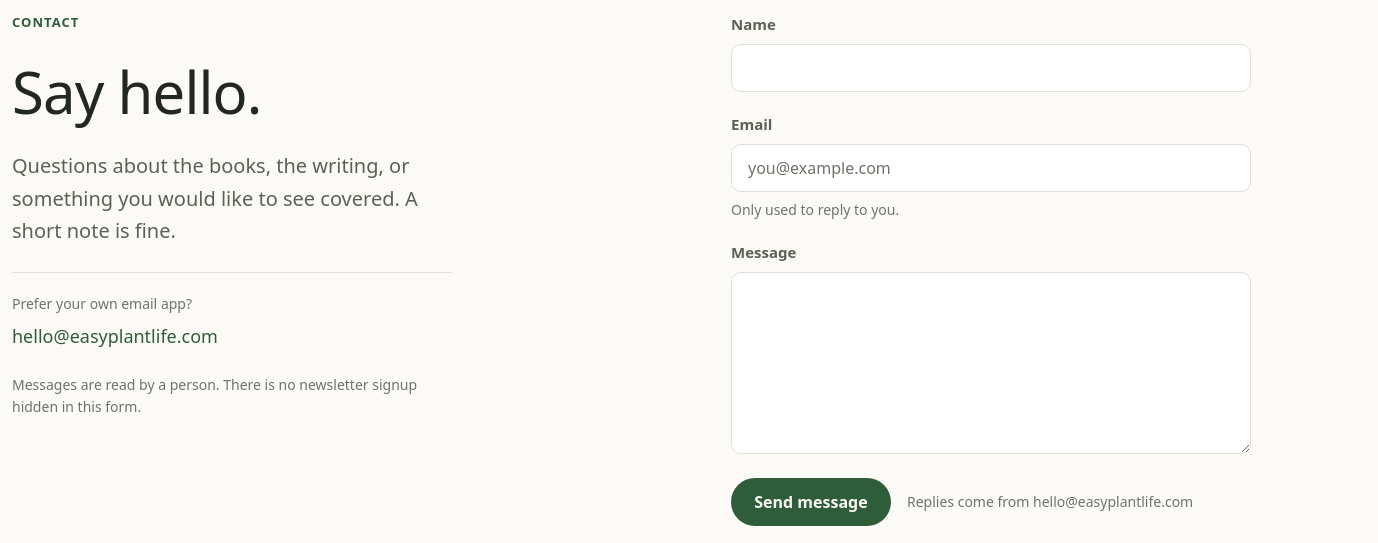
Test: Contact API Integration › shows success message when API succeeds
Step 1. Type "John Doe" into the field labelled "Name" → (991, 68), box [731,44,1251,92]
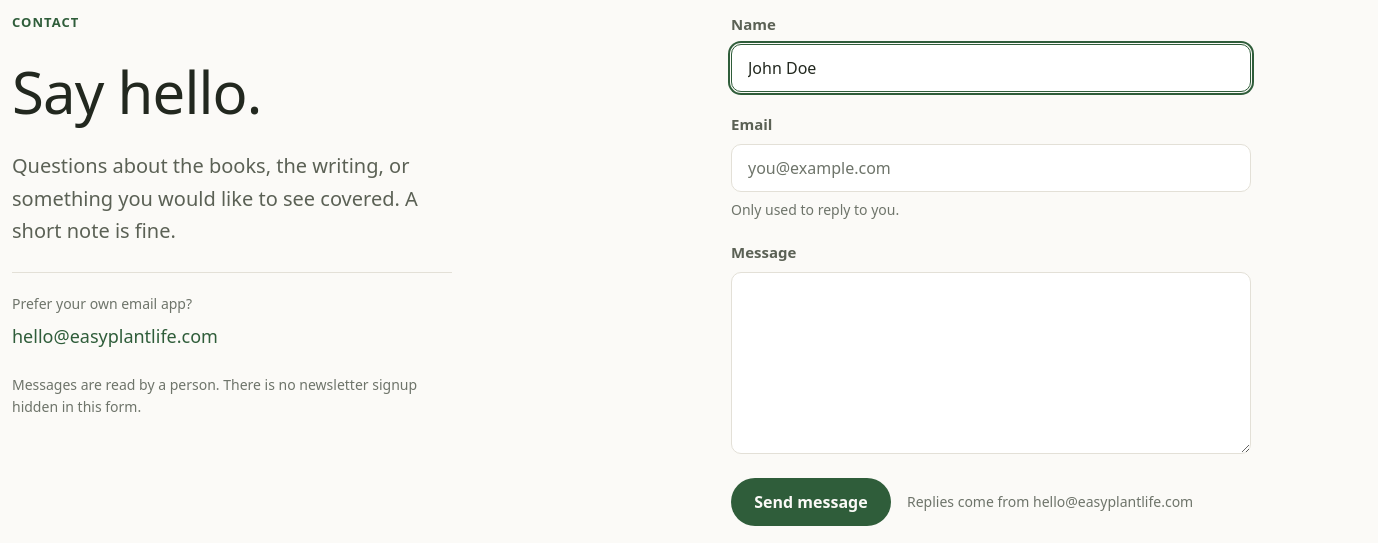
Step 2. Type "john@example.com" into the field labelled "Email" → (991, 168), box [731,144,1251,192]
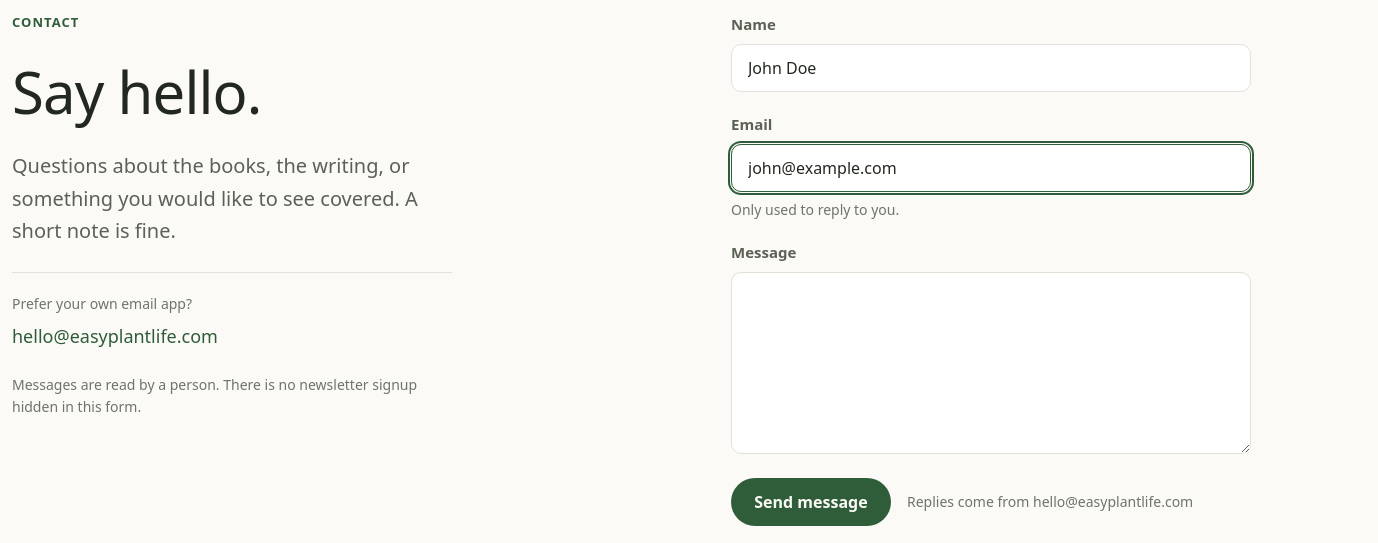
Step 3. Type "Hello!" into the text box labelled "Message" → (991, 363), box [731,272,1251,454]
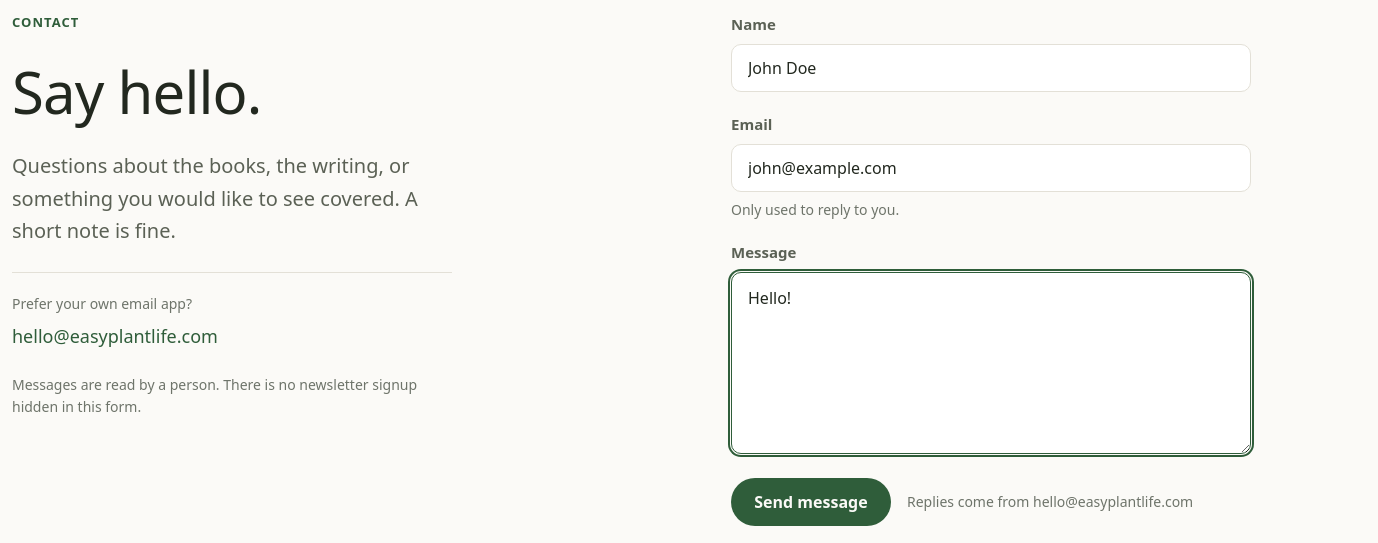
Step 4. Click the button "Send message" → (811, 502), box [731,478,891,526]
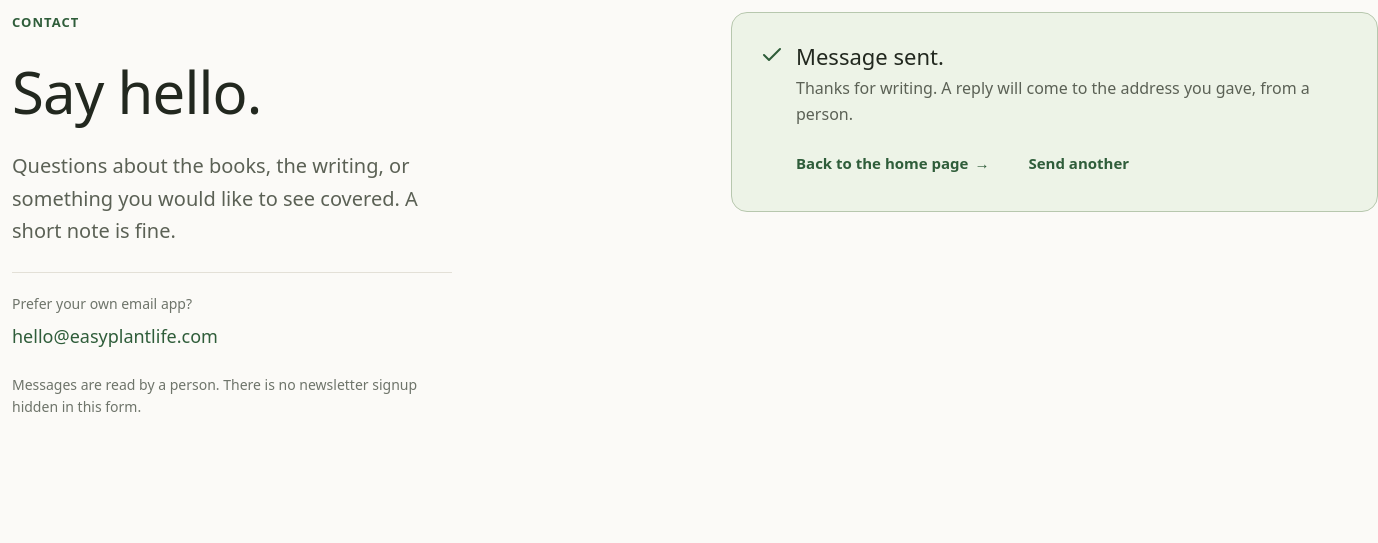
Expected: the message with test id "contact-success" is shown, [731,12,1377,212]
